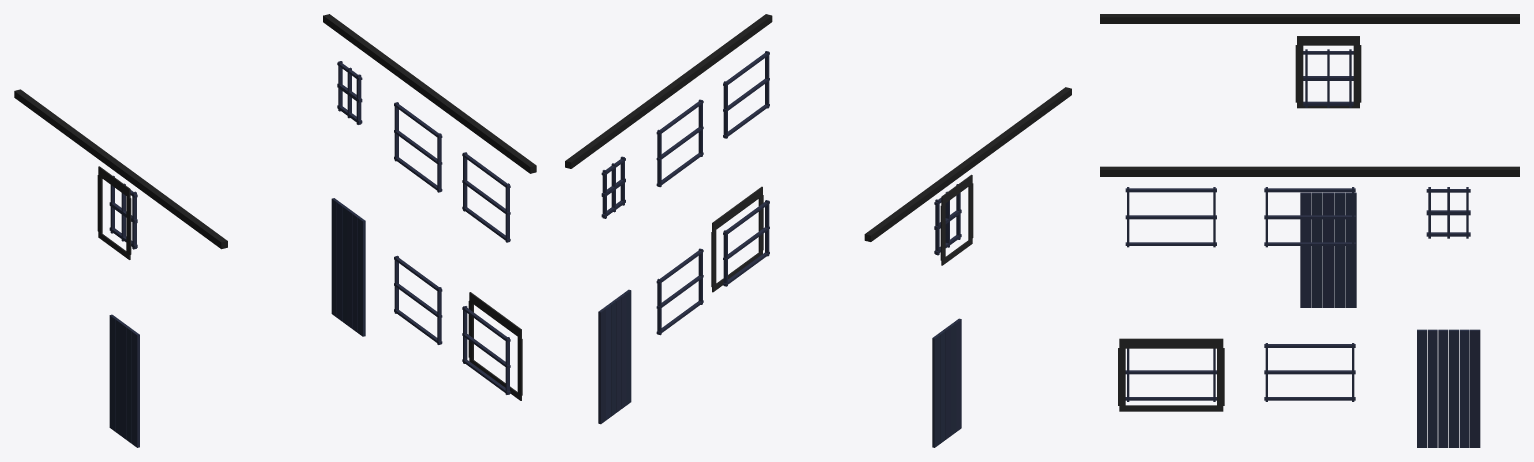
The model's file is SM_Bld_151_Wood.glb.
3 views of the same model, side by side, from view 1: azimuth 30°, elevation 25°; view 2: azimuth 150°, elevation 25°; view 3: azimuth 270°, elevation 25° (orthographic). The views are drawn at different scales.
Visible parts, largest first — view 1: SM_Bld_151_Wood; view 2: SM_Bld_151_Wood; view 3: SM_Bld_151_Wood.
Part boxes in pixels (bbox=[...]): SM_Bld_151_Wood: bbox=[14, 14, 536, 447]; SM_Bld_151_Wood: bbox=[565, 14, 1071, 447]; SM_Bld_151_Wood: bbox=[1100, 14, 1519, 447].
Bounding box in the file's own units: 5.86 × 5 × 6.67.
